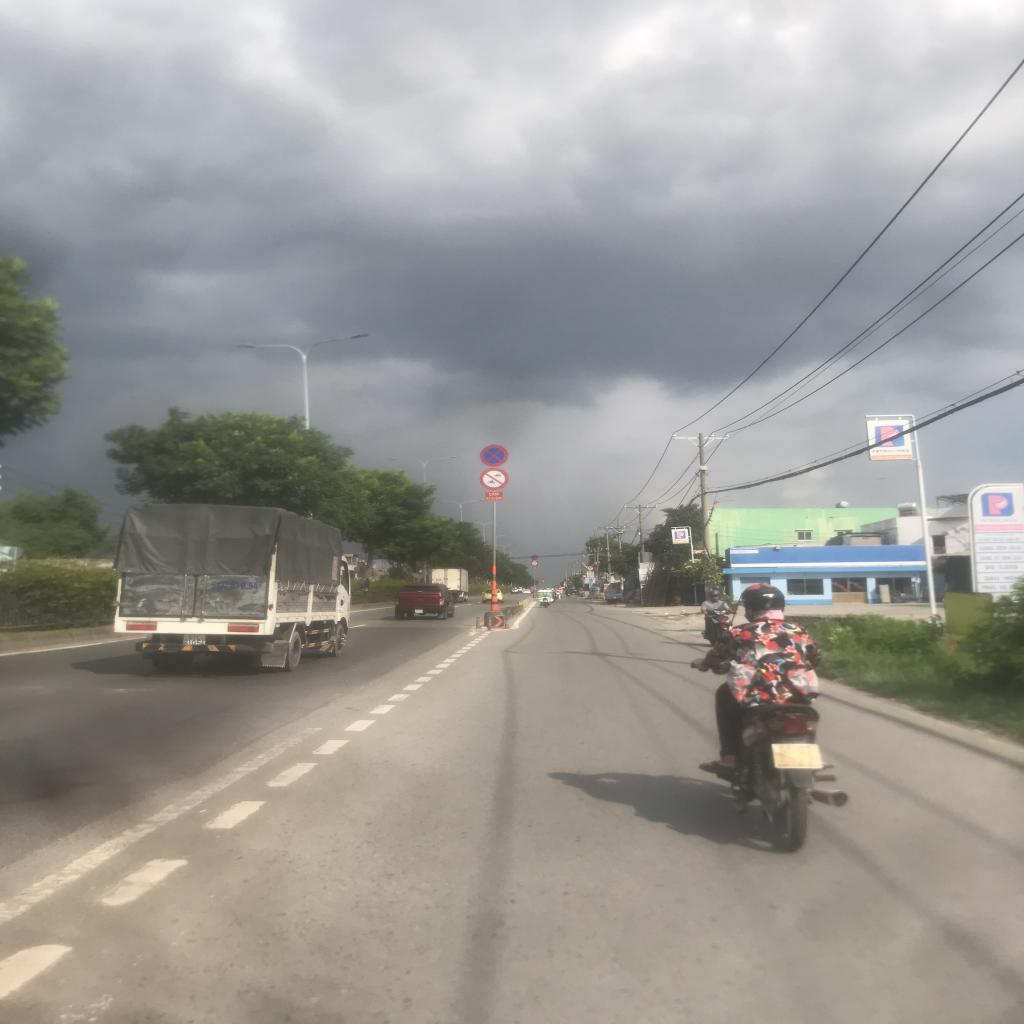cam_dung_xe_va_do_xe: (480, 444, 508, 467), (531, 554, 537, 560)
cam_o_to_tai_va_xe_khach: (587, 566, 594, 570)
cam_xe_2_banh_va_xe_3_banh_co_dong_co: (479, 468, 509, 490), (531, 561, 538, 566)
khac: (586, 577, 596, 584), (587, 572, 594, 577)
